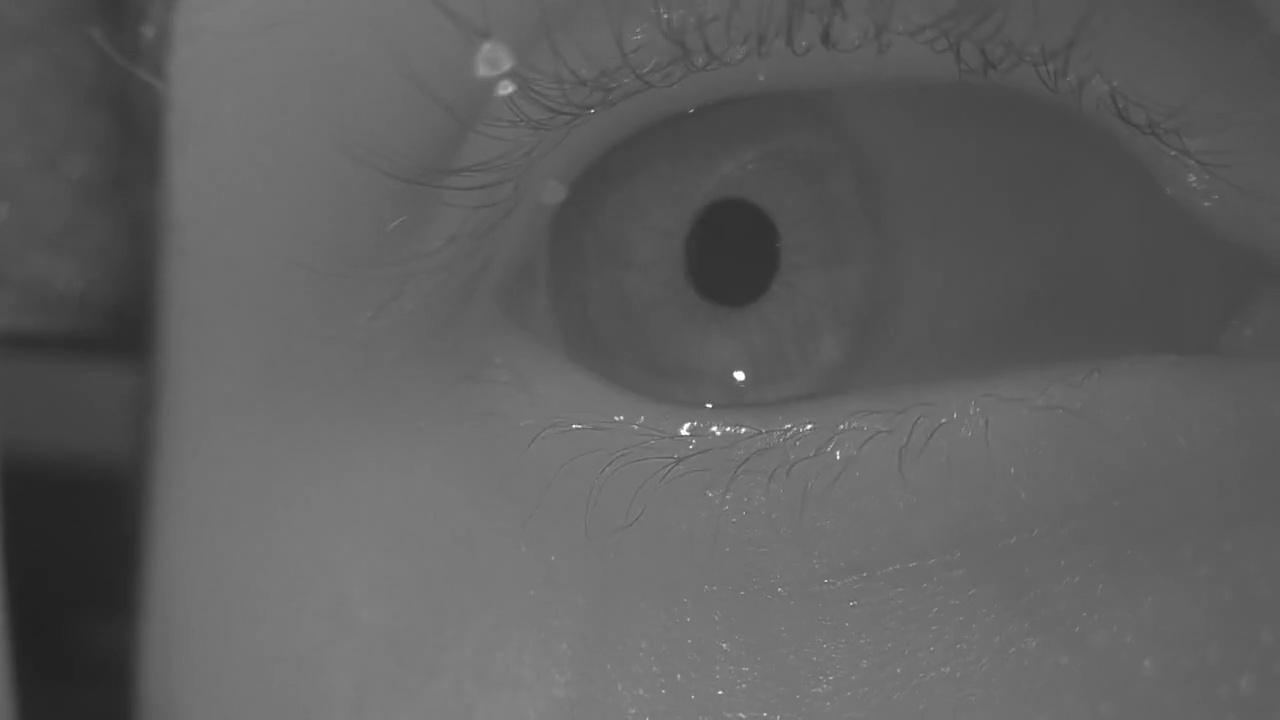pupil: (685, 199, 780, 307)
